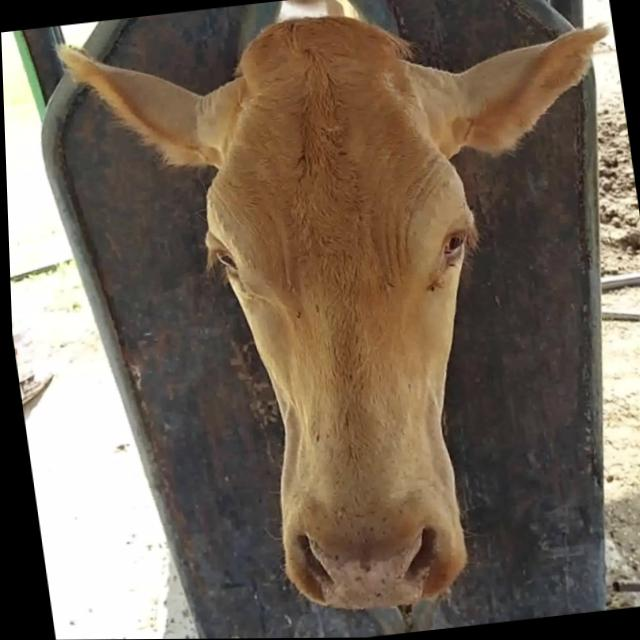cowFace: (173, 0, 522, 622)
